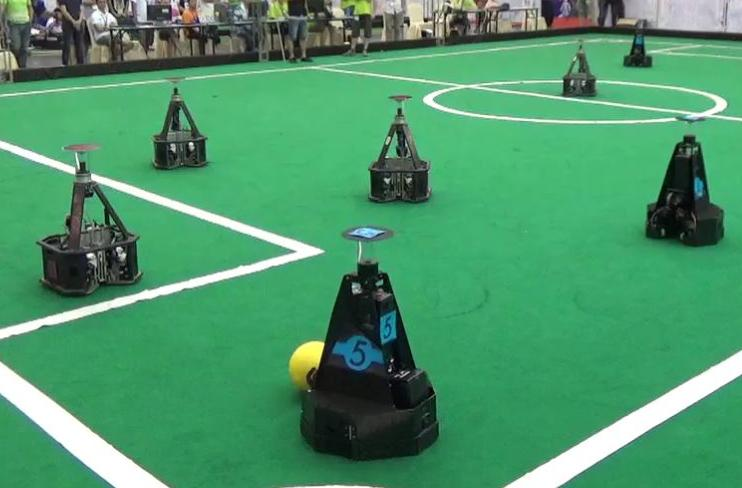robot: (296, 221, 444, 463), (34, 138, 149, 298), (640, 111, 731, 251), (365, 94, 435, 208), (146, 73, 212, 172)
